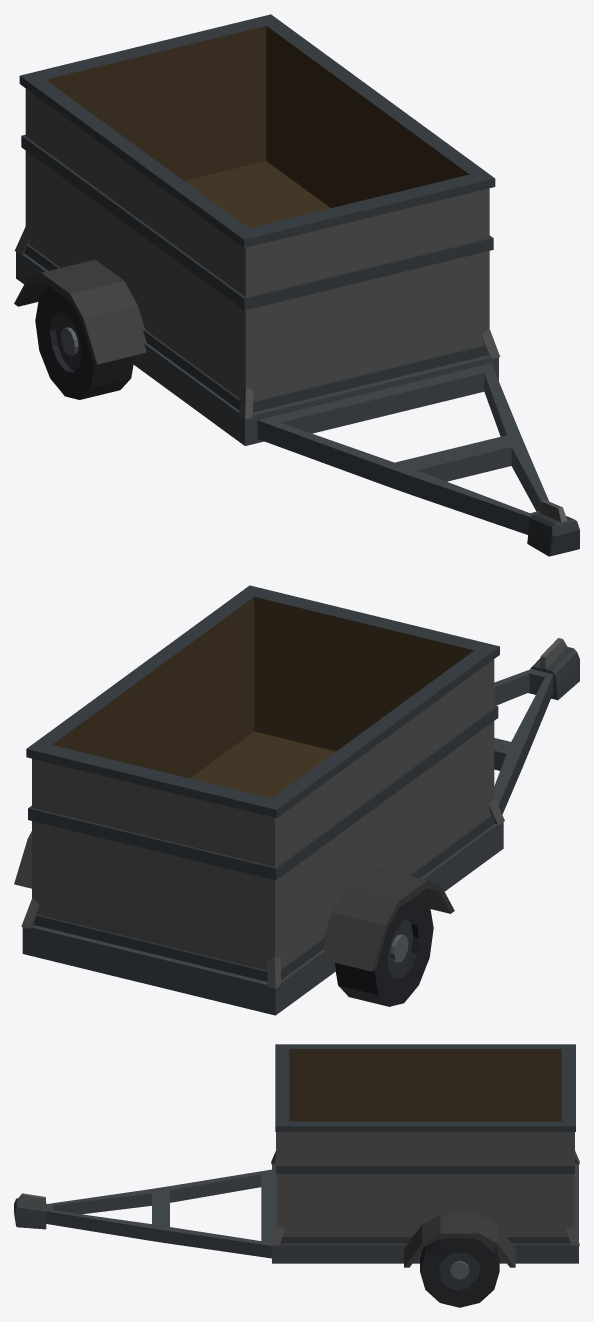
The model's file is TrailerCylinder_1.fbx.
The picture shows the model from 3 angles, top to bottom: view 1: azimuth 30°, elevation 25°; view 2: azimuth 150°, elevation 25°; view 3: azimuth 270°, elevation 25°; orthographic projection. The views are drawn at different scales.
Visible parts, largest first — view 1: TrailerCylinder_1, TrailerCylinderWheels_1; view 2: TrailerCylinder_1, TrailerCylinderWheels_1; view 3: TrailerCylinder_1, TrailerCylinderWheels_1.
Boxes of the visible parts, bbox=[...] form: TrailerCylinder_1: bbox=[14, 14, 579, 556]; TrailerCylinderWheels_1: bbox=[35, 286, 134, 399]; TrailerCylinder_1: bbox=[14, 585, 579, 1015]; TrailerCylinderWheels_1: bbox=[335, 893, 433, 1006]; TrailerCylinder_1: bbox=[14, 1044, 579, 1267]; TrailerCylinderWheels_1: bbox=[420, 1238, 499, 1307].
Bounding box in the file's own units: 236 × 155 × 480.
